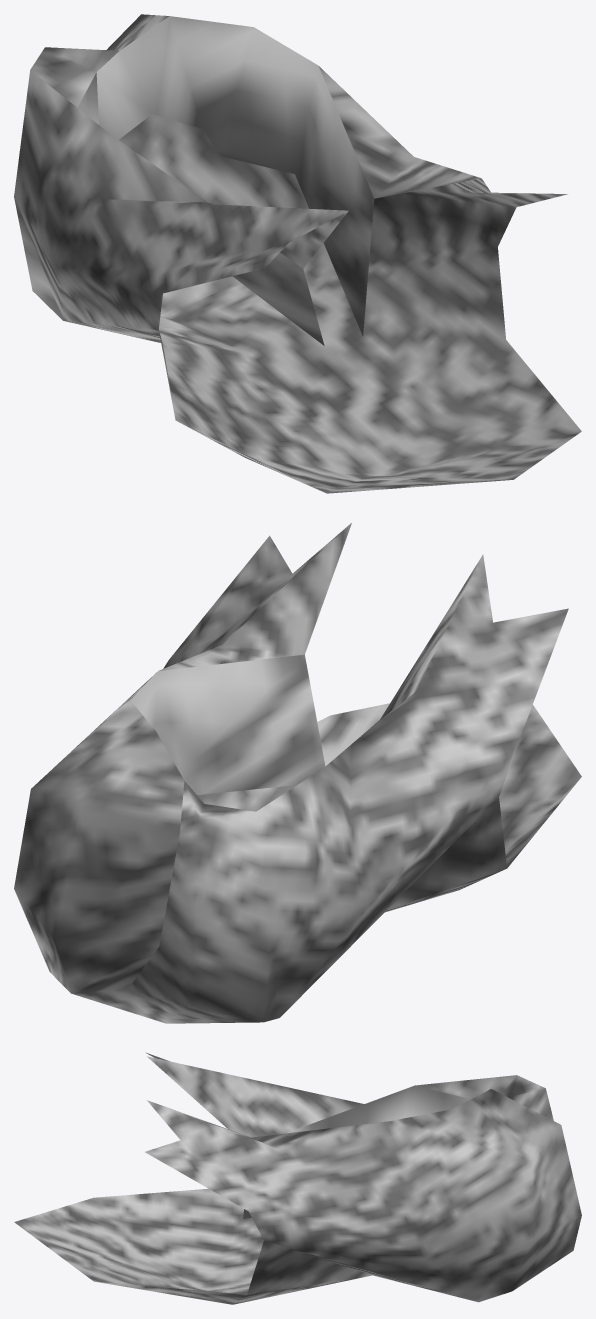
File: Wig_Kate_Hair_Long2Curly.fbx
3 renders of one model, top to bottom at view 1: azimuth 30°, elevation 25°; view 2: azimuth 150°, elevation 25°; view 3: azimuth 270°, elevation 25°, orthographic. The views are drawn at different scales.
Parts seen in each view (by area): view 1: BoxOfJars003; view 2: BoxOfJars003; view 3: BoxOfJars003.
Boxes of the visible parts, x1=… form: BoxOfJars003: x1=14, y1=14, x2=581, y2=493; BoxOfJars003: x1=14, y1=523, x2=581, y2=1023; BoxOfJars003: x1=14, y1=1052, x2=581, y2=1304.
Bounding box in the file's own units: 16.14 × 13.56 × 33.3.
